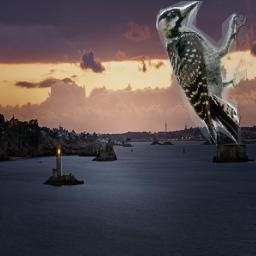Woodpecker: (155, 1, 247, 147)
